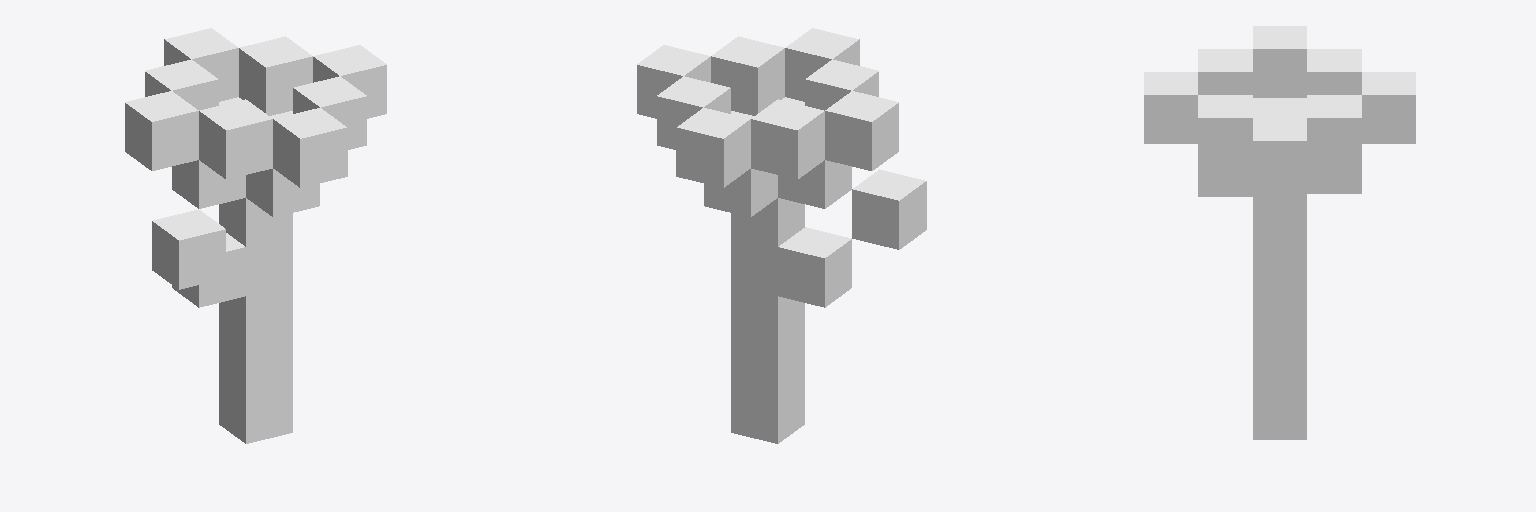
Rendered from Flower-2.obj.
3 views of the same model, side by side, from view 1: azimuth 30°, elevation 25°; view 2: azimuth 150°, elevation 25°; view 3: azimuth 270°, elevation 25° (orthographic).
Parts seen in each view (by area): view 1: object 1; view 2: object 1; view 3: object 1.
Part boxes in pixels (x1,y1,x2,y2): object 1: (125,28,386,443); object 1: (637,28,926,443); object 1: (1144,26,1415,439).
Size of the model in its own units: 0.5 by 0.7 by 0.5.